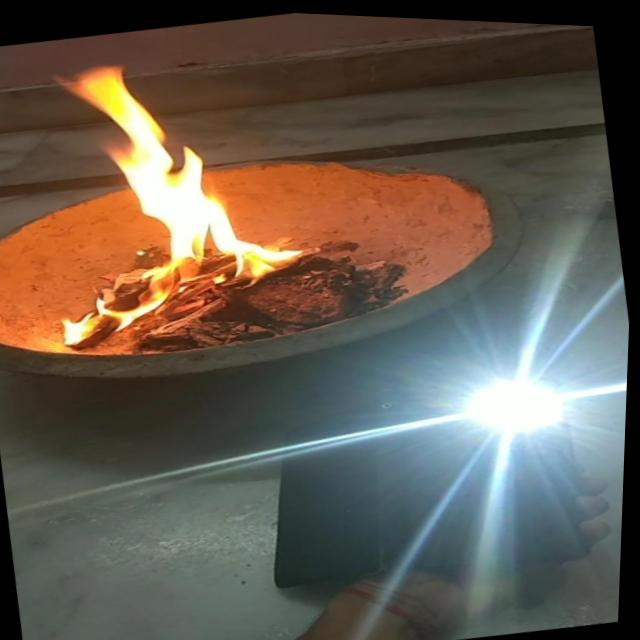fire: (12, 36, 324, 355)
